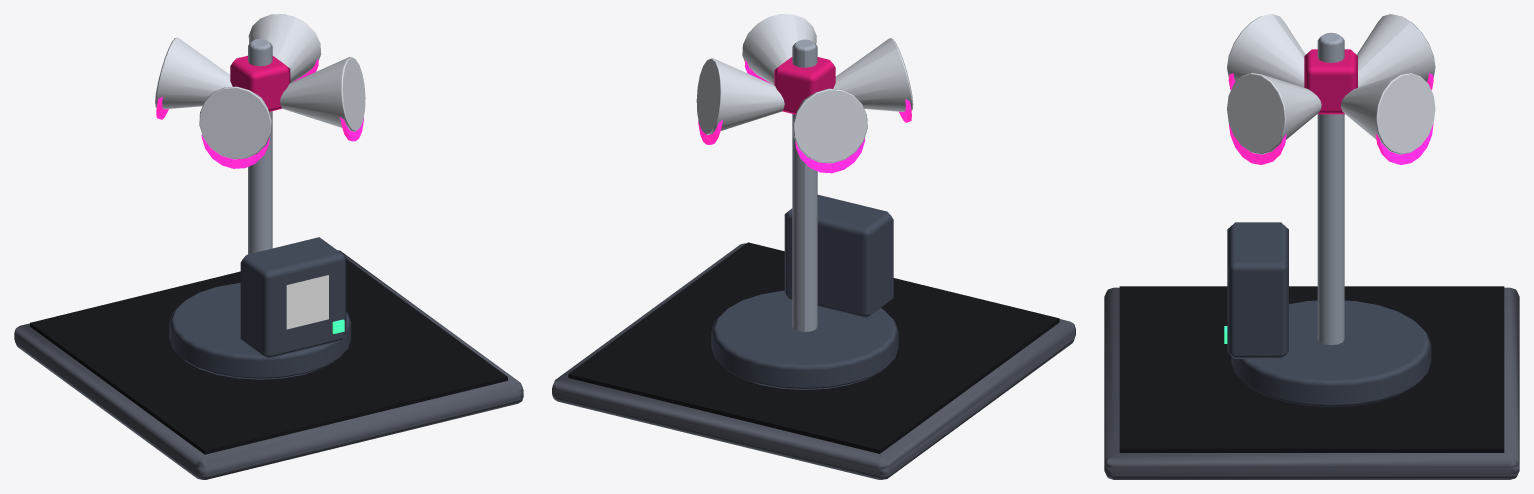
Rendered from sns.glb.
The picture shows the model from 3 angles, left to right: view 1: azimuth 30°, elevation 25°; view 2: azimuth 150°, elevation 25°; view 3: azimuth 270°, elevation 25°; orthographic projection. The views are drawn at different scales.
Visible parts, largest first — view 1: body.rubber, body.steel, body.concrete, spin_horns.white, body.steel_light, body.accent, body.badge, spin_horns.accent_glow; view 2: body.rubber, body.steel, body.concrete, spin_horns.white, body.steel_light, body.accent, spin_horns.accent_glow; view 3: body.rubber, body.steel, spin_horns.white, body.concrete, body.steel_light, body.accent, spin_horns.accent_glow.
Boxes of the visible parts, <box> form: body.rubber: <box>30,259,507,454</box>; body.steel: <box>169,237,351,379</box>; body.concrete: <box>14,250,523,479</box>; spin_horns.white: <box>155,14,365,159</box>; body.steel_light: <box>248,39,272,254</box>; body.accent: <box>230,55,290,111</box>; body.badge: <box>286,275,328,329</box>; spin_horns.accent_glow: <box>156,59,363,168</box>; body.rubber: <box>568,242,1059,453</box>; body.steel: <box>711,194,898,389</box>; body.concrete: <box>552,243,1075,479</box>; spin_horns.white: <box>696,14,913,163</box>; body.steel_light: <box>792,39,817,331</box>; body.accent: <box>774,57,835,114</box>; spin_horns.accent_glow: <box>698,60,911,173</box>; body.rubber: <box>1119,286,1504,452</box>; body.steel: <box>1227,222,1431,407</box>; spin_horns.white: <box>1227,14,1435,154</box>; body.concrete: <box>1104,287,1519,479</box>; body.steel_light: <box>1317,32,1344,345</box>; body.accent: <box>1304,49,1357,114</box>; spin_horns.accent_glow: <box>1228,73,1433,164</box>.
Size of the model in its own units: 1.08 by 1.03 by 1.08.
